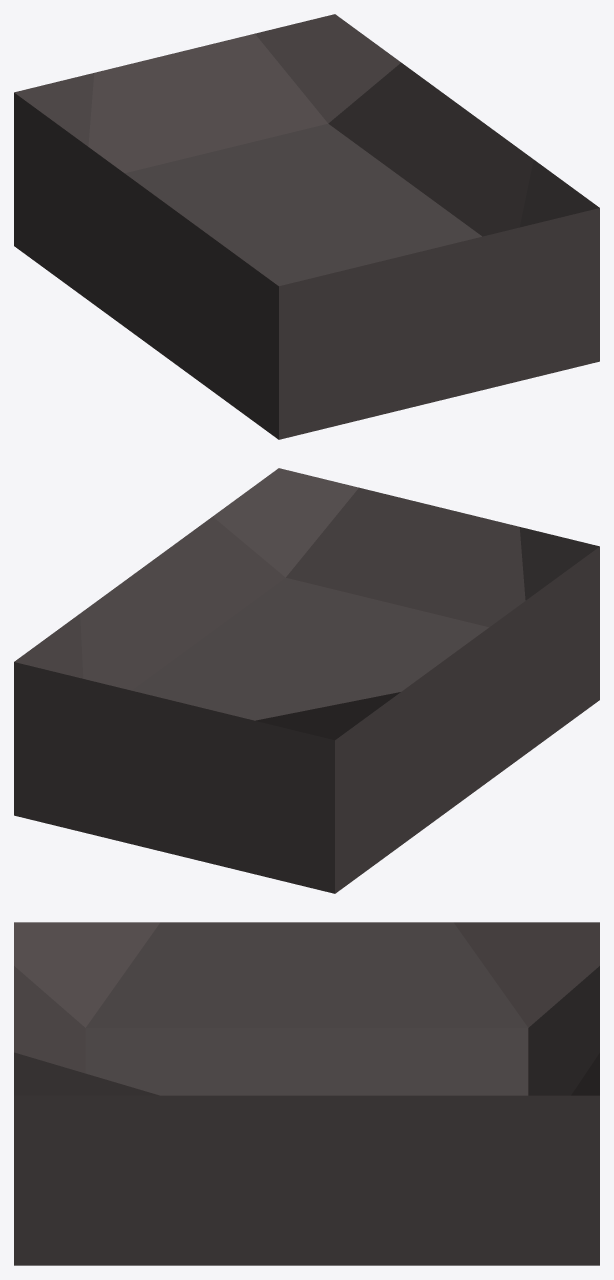
The model's file is Player.obj.
The picture shows the model from 3 angles, top to bottom: view 1: azimuth 30°, elevation 25°; view 2: azimuth 150°, elevation 25°; view 3: azimuth 270°, elevation 25°; orthographic projection. The views are drawn at different scales.
Parts seen in each view (by area): view 1: Player; view 2: Player; view 3: Player.
Boxes of the visible parts, box(x1,y1,x2,y2) form: Player: box(14, 14, 599, 439); Player: box(14, 468, 599, 893); Player: box(14, 922, 599, 1265).
Bounding box in the file's own units: 1.4 × 0.64 × 2.
Materials: 1 (1 with a texture image).
